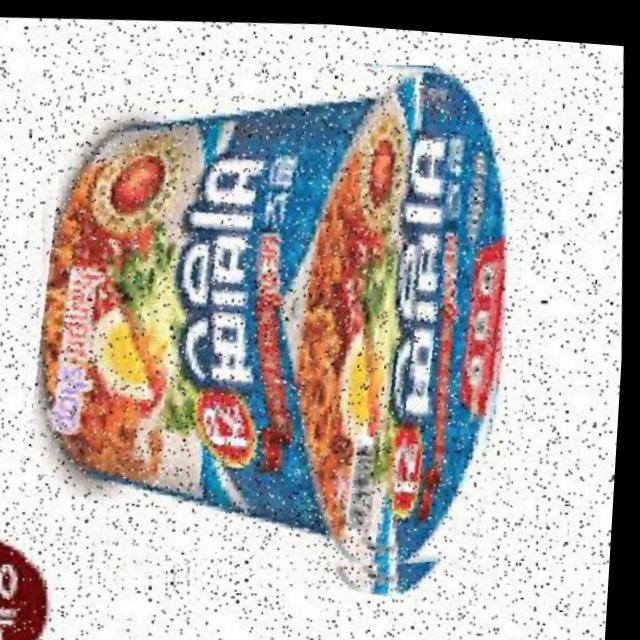Miscellaneous: (4, 29, 558, 614)
